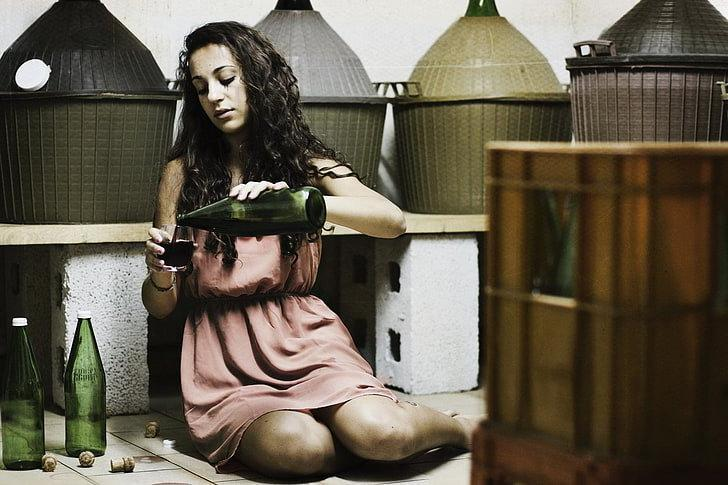Drunk: (186, 53, 248, 123)
